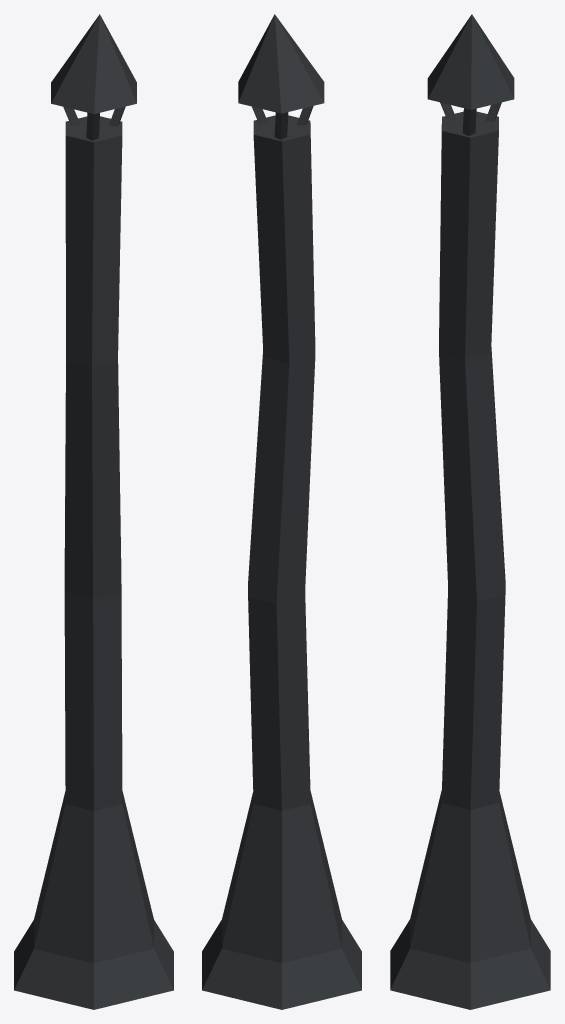
File: SM_Bld_Quarry_Chimney_01.glb
3 views of the same model, side by side, from view 1: azimuth 30°, elevation 25°; view 2: azimuth 150°, elevation 25°; view 3: azimuth 270°, elevation 25° (orthographic).
Parts seen in each view (by area): view 1: SM_Bld_Quarry_Chimney_01; view 2: SM_Bld_Quarry_Chimney_01; view 3: SM_Bld_Quarry_Chimney_01.
Part boxes in pixels (box(x1,y1,x2,y2)): SM_Bld_Quarry_Chimney_01: box(14, 14, 173, 1009); SM_Bld_Quarry_Chimney_01: box(202, 14, 361, 1009); SM_Bld_Quarry_Chimney_01: box(390, 14, 550, 1009).
Bounding box in the file's own units: 0.9398 × 5.37 × 0.8139.
Materials: 1 (1 with a texture image).
